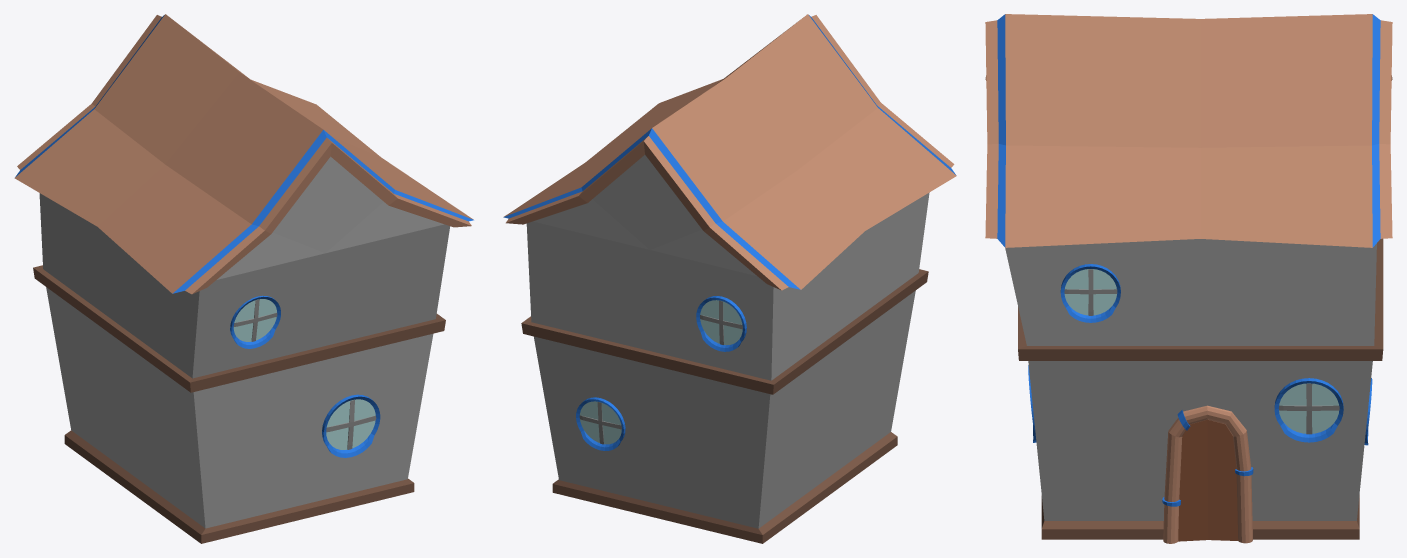
The model's file is Town House2.fbx.
3 views of the same model, side by side, from view 1: azimuth 30°, elevation 25°; view 2: azimuth 150°, elevation 25°; view 3: azimuth 270°, elevation 25° (orthographic). The views are drawn at different scales.
Parts seen in each view (by area): view 1: Cube, Circle.005, Circle.004; view 2: Cube, Circle.001, Circle.003; view 3: Cube, Cube.001, Circle.002, Circle.000.
Part boxes in pixels (box(x1,y1,x2,y2)): Cube: box(14, 14, 473, 543); Circle.005: box(322, 394, 380, 457); Circle.004: box(230, 295, 280, 348); Cube: box(503, 14, 956, 543); Circle.001: box(696, 296, 746, 351); Circle.003: box(576, 397, 625, 450); Cube: box(985, 14, 1392, 539); Cube.001: box(1162, 405, 1253, 543); Circle.002: box(1274, 378, 1343, 442); Circle.000: box(1060, 264, 1120, 322).
Size of the model in its own units: 816 by 1033 by 818.
